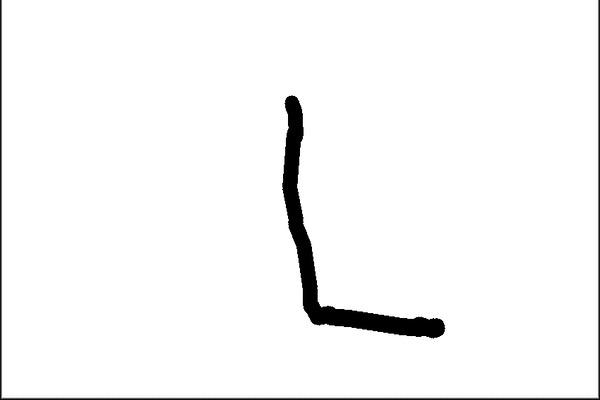L: (273, 85, 451, 341)
